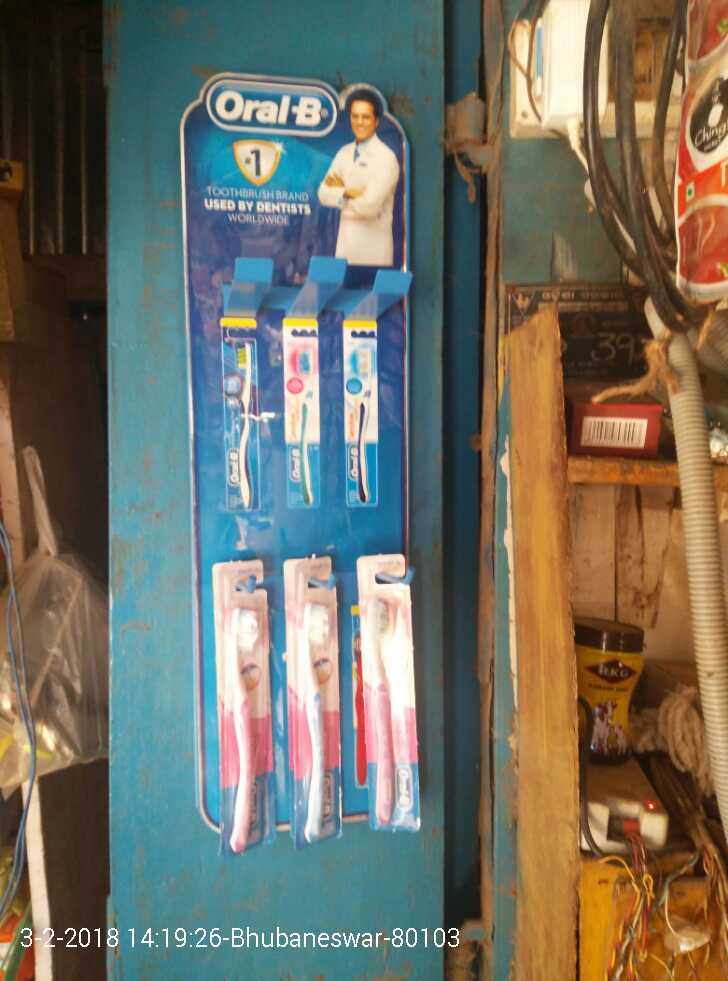oralb: (359, 557, 422, 827), (286, 556, 342, 849), (215, 562, 259, 855), (215, 297, 267, 512), (336, 319, 385, 517), (285, 313, 327, 506)
